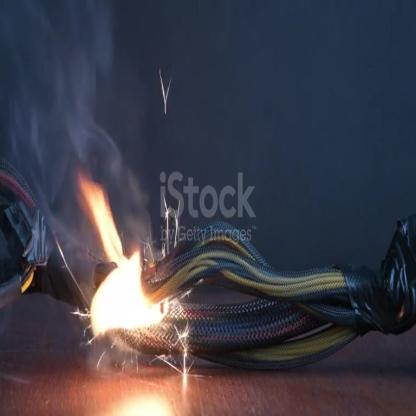fire: (83, 183, 177, 335)
smoke: (2, 1, 165, 304)
